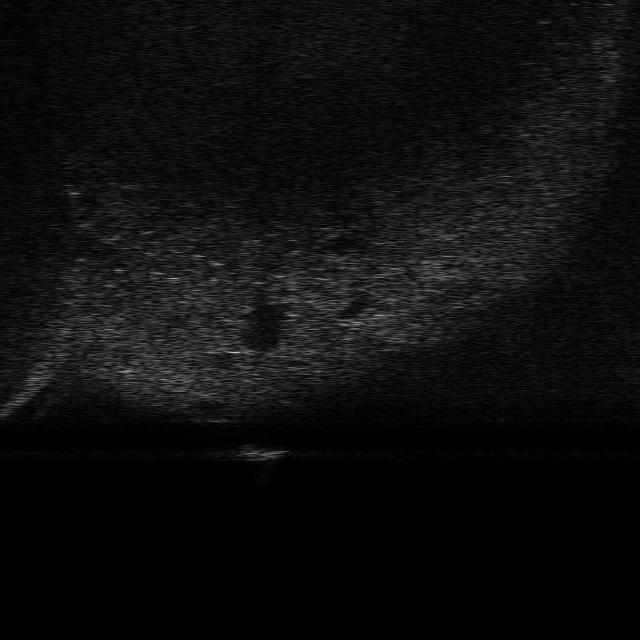cube: (220, 445, 298, 462)
